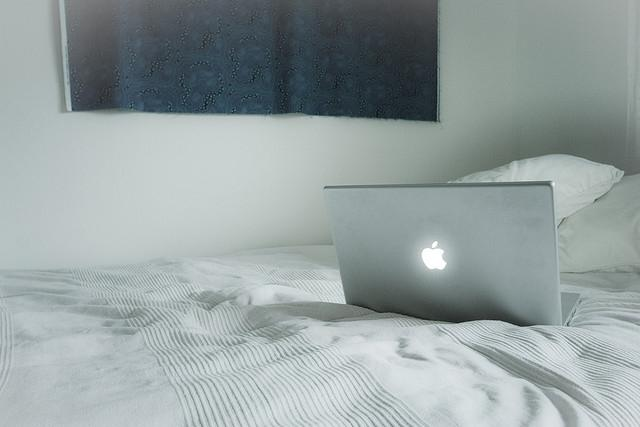apple: (422, 241, 447, 270)
